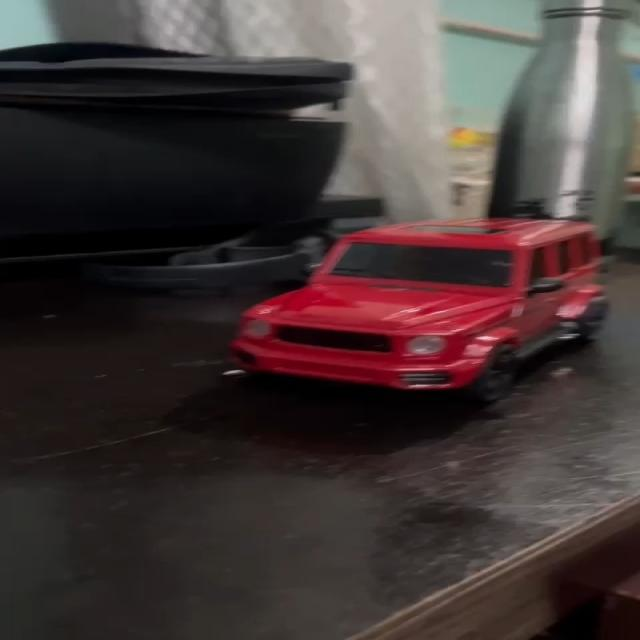light_vehicle: (234, 213, 615, 403)
